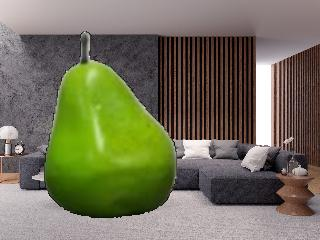pear: (43, 32, 177, 219)
